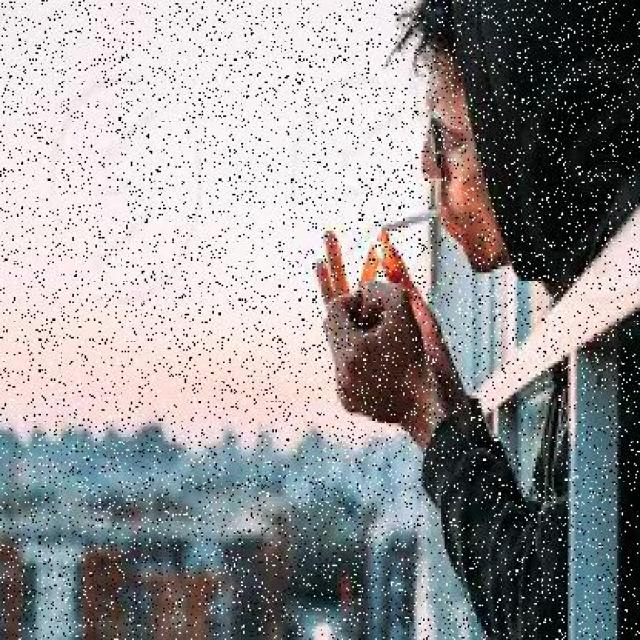fire: (352, 221, 390, 274)
